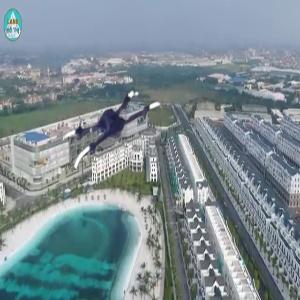drone: (62, 83, 169, 190)
